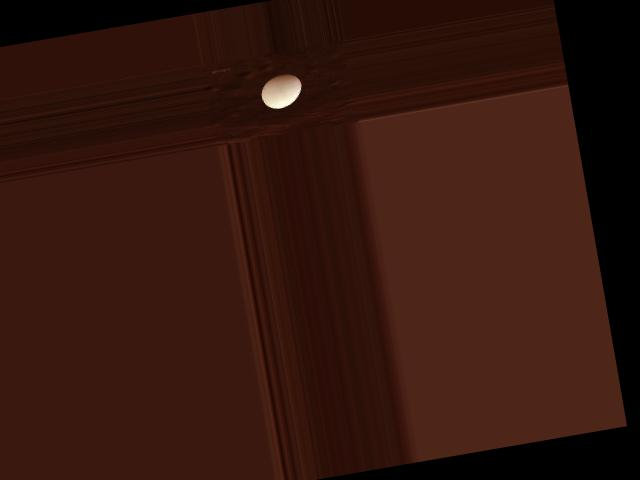egg: (259, 71, 305, 110)
